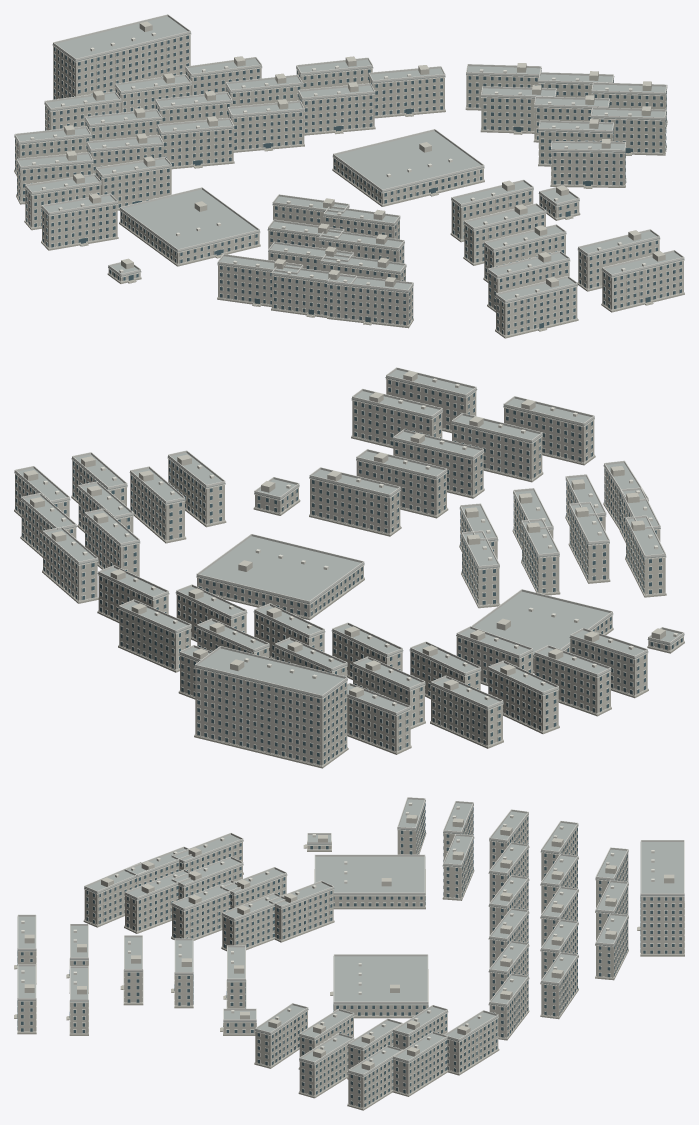
3 views of the same model, one above another, from view 1: azimuth 30°, elevation 25°; view 2: azimuth 150°, elevation 25°; view 3: azimuth 270°, elevation 25° (orthographic). The views are drawn at different scales.
Parts seen in each view (by area): view 1: Weathered flat roof details.004, Window frames and coping details.004, Dark blue grey glazing details.004, Pale limestone details.004, Warm ivory plaster details.004, 留学生公寓.001, Walkway stone details.004, 北区宿舍 · 图示楼栋 34.001, 北区宿舍 · 图示楼栋 41.001, 北区宿舍 · 图示楼栋 40.001, 北区宿舍 · 图示楼栋 17.001, 北区宿舍 · 图示楼栋 25.001 (+34 smaller); view 2: Weathered flat roof details.004, Window frames and coping details.004, Dark blue grey glazing details.004, Pale limestone details.004, 留学生公寓.001, Warm ivory plaster details.004, Walkway stone details.004, 北区宿舍 · 图示楼栋 35.001, 北区宿舍 · 图示楼栋 38.001, 北区宿舍 · 图示楼栋 04.001, 北区宿舍 · 图示楼栋 40.001, 北区宿舍 · 图示楼栋 36.001 (+25 smaller); view 3: Weathered flat roof details.004, Window frames and coping details.004, Pale limestone details.004, Dark blue grey glazing details.004, Warm ivory plaster details.004, Walkway stone details.004, 留学生公寓.001, 北区宿舍 · 图示楼栋 26.001, 北区宿舍 · 图示楼栋 31.001, 北区宿舍 · 图示楼栋 19.001, 北区宿舍 · 图示楼栋 33.001, 北区宿舍 · 图示楼栋 24.001 (+25 smaller).
Part boxes in pixels (left/top/right/bottom): Weathered flat roof details.004: left=14, top=16, right=684, bottom=303; Window frames and coping details.004: left=14, top=32, right=684, bottom=336; Dark blue grey glazing details.004: left=15, top=35, right=681, bottom=334; Pale limestone details.004: left=14, top=14, right=684, bottom=302; Warm ivory plaster details.004: left=64, top=21, right=665, bottom=287; 留学生公寓.001: left=53, top=34, right=190, bottom=99; Walkway stone details.004: left=14, top=105, right=684, bottom=338; 北区宿舍 · 图示楼栋 34.001: left=328, top=284, right=413, bottom=326; 北区宿舍 · 图示楼栋 41.001: left=602, top=260, right=683, bottom=310; 北区宿舍 · 图示楼栋 40.001: left=496, top=286, right=577, bottom=336; 北区宿舍 · 图示楼栋 17.001: left=42, top=204, right=117, bottom=248; 北区宿舍 · 图示楼栋 25.001: left=551, top=151, right=625, bottom=186; Weathered flat roof details.004: left=14, top=370, right=684, bottom=715; Window frames and coping details.004: left=14, top=378, right=684, bottom=766; Dark blue grey glazing details.004: left=15, top=380, right=682, bottom=764; Pale limestone details.004: left=14, top=367, right=684, bottom=714; 留学生公寓.001: left=195, top=667, right=347, bottom=766; Warm ivory plaster details.004: left=23, top=370, right=665, bottom=697; Walkway stone details.004: left=14, top=429, right=684, bottom=768; 北区宿舍 · 图示楼栋 35.001: left=310, top=478, right=400, bottom=534; 北区宿舍 · 图示楼栋 38.001: left=452, top=424, right=542, bottom=480; 北区宿舍 · 图示楼栋 04.001: left=431, top=685, right=502, bottom=745; 北区宿舍 · 图示楼栋 40.001: left=504, top=407, right=594, bottom=463; 北区宿舍 · 图示楼栋 36.001: left=356, top=460, right=446, bottom=515; Weathered flat roof details.004: left=17, top=799, right=684, bottom=1076; Window frames and coping details.004: left=17, top=801, right=684, bottom=1108; Pale limestone details.004: left=17, top=797, right=684, bottom=1076; Dark blue grey glazing details.004: left=17, top=803, right=681, bottom=1106; Warm ivory plaster details.004: left=24, top=814, right=674, bottom=1070; Walkway stone details.004: left=14, top=833, right=684, bottom=1110; 留学生公寓.001: left=641, top=897, right=684, bottom=953; 北区宿舍 · 图示楼栋 26.001: left=274, top=890, right=333, bottom=940; 北区宿舍 · 图示楼栋 31.001: left=172, top=895, right=230, bottom=939; 北区宿舍 · 图示楼栋 19.001: left=393, top=1040, right=447, bottom=1094; 北区宿舍 · 图示楼栋 33.001: left=125, top=885, right=178, bottom=931; 北区宿舍 · 图示楼栋 24.001: left=299, top=1045, right=348, bottom=1095.
Bounding box in the file's own units: 291 × 32.14 × 297.
